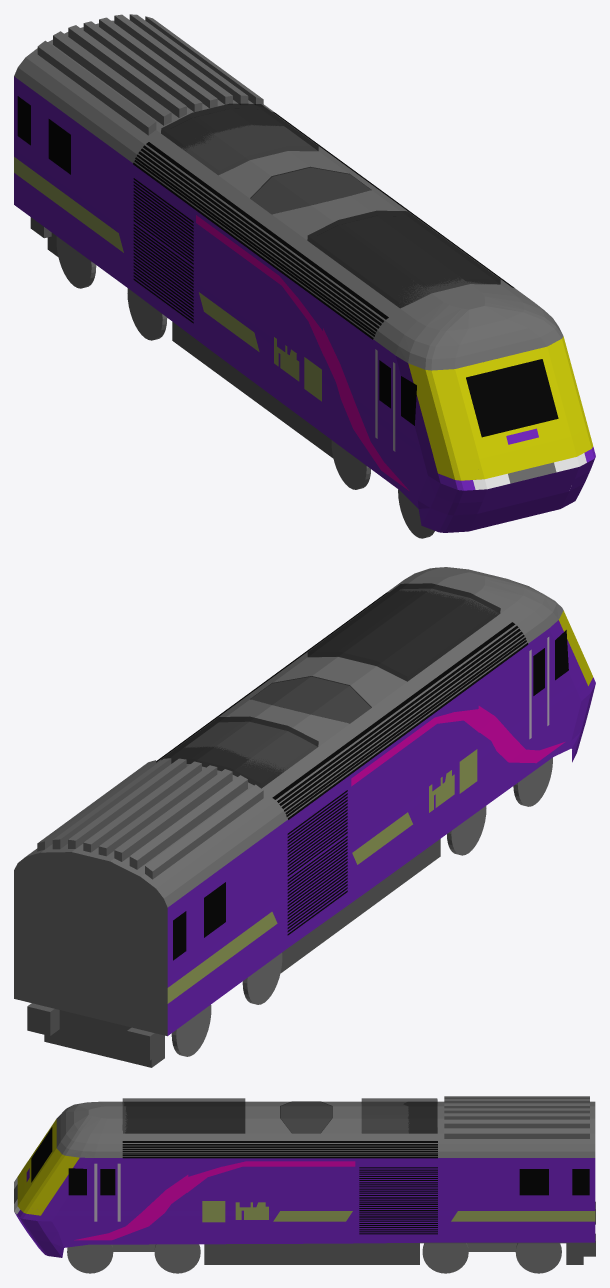
The model's file is br-cl43-front-fgw2.dae.
3 renders of one model, top to bottom at view 1: azimuth 30°, elevation 25°; view 2: azimuth 150°, elevation 25°; view 3: azimuth 270°, elevation 25°, orthographic. The views are drawn at different scales.
Visible parts, largest first — view 1: Plane_030, Plane_001, Cube_008, Plane_028, Plane_135, Plane_148, Plane_136, Plane_117, Plane_166, Plane_137, Cube_033, Sphere_001 (+6 smaller); view 2: Plane_030, Plane_001, Plane_019, Cube_008, Plane_135, Plane_148, Plane_136, Plane_166, Plane_028, Plane_137, Cube_033, Cube_001 (+9 smaller); view 3: Plane_030, Plane_001, Cube_008, Plane_104, Cube_033, Plane_135, Plane_016, Plane_028, Plane_136, Plane_137, Sphere_012, Cylinder_010 (+17 smaller).
Part boxes in pixels (bbox=[...]): Plane_030: bbox=[14, 76, 595, 532]; Plane_001: bbox=[14, 20, 518, 342]; Cube_008: bbox=[37, 14, 263, 135]; Plane_028: bbox=[378, 287, 563, 370]; Plane_135: bbox=[307, 210, 500, 308]; Plane_148: bbox=[133, 142, 388, 339]; Plane_136: bbox=[161, 103, 318, 174]; Plane_117: bbox=[466, 359, 558, 437]; Plane_166: bbox=[133, 178, 193, 323]; Plane_137: bbox=[250, 167, 371, 214]; Cube_033: bbox=[172, 322, 333, 458]; Sphere_001: bbox=[323, 328, 409, 490]; Plane_030: bbox=[167, 610, 595, 1035]; Plane_001: bbox=[14, 586, 531, 907]; Plane_019: bbox=[14, 870, 167, 1036]; Cube_008: bbox=[37, 758, 263, 879]; Plane_135: bbox=[307, 583, 500, 681]; Plane_148: bbox=[272, 622, 528, 819]; Plane_136: bbox=[161, 716, 318, 788]; Plane_166: bbox=[287, 790, 347, 935]; Plane_028: bbox=[390, 567, 563, 640]; Plane_137: bbox=[250, 676, 371, 723]; Cube_033: bbox=[280, 839, 440, 973]; Cube_001: bbox=[44, 1010, 164, 1067]; Plane_030: bbox=[15, 1119, 595, 1257]; Plane_001: bbox=[117, 1101, 595, 1157]; Cube_008: bbox=[444, 1096, 589, 1138]; Plane_104: bbox=[122, 1141, 437, 1158]; Cube_033: bbox=[204, 1243, 419, 1264]; Plane_135: bbox=[122, 1098, 245, 1133]; Plane_016: bbox=[359, 1167, 437, 1234]; Plane_028: bbox=[56, 1101, 117, 1157]; Plane_136: bbox=[361, 1098, 437, 1133]; Plane_137: bbox=[280, 1101, 332, 1133]; Sphere_012: bbox=[74, 1175, 188, 1240]; Cylinder_010: bbox=[422, 1243, 468, 1273].
Bounding box in the file's own units: 2.02 × 9.99 × 2.77.
